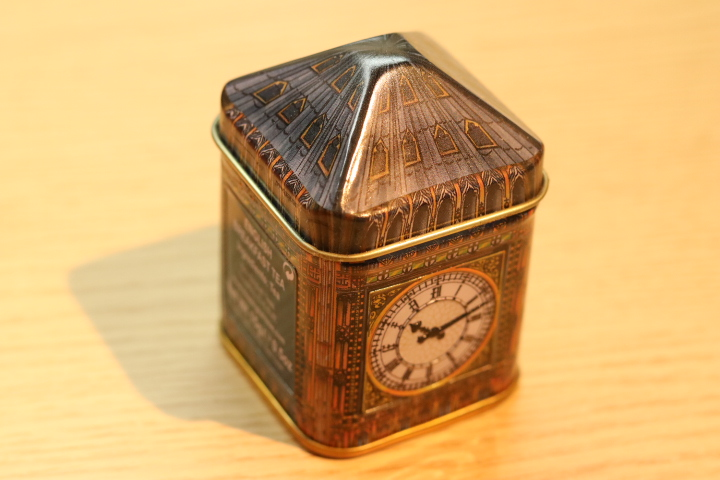Big Ben: (190, 19, 568, 472)
